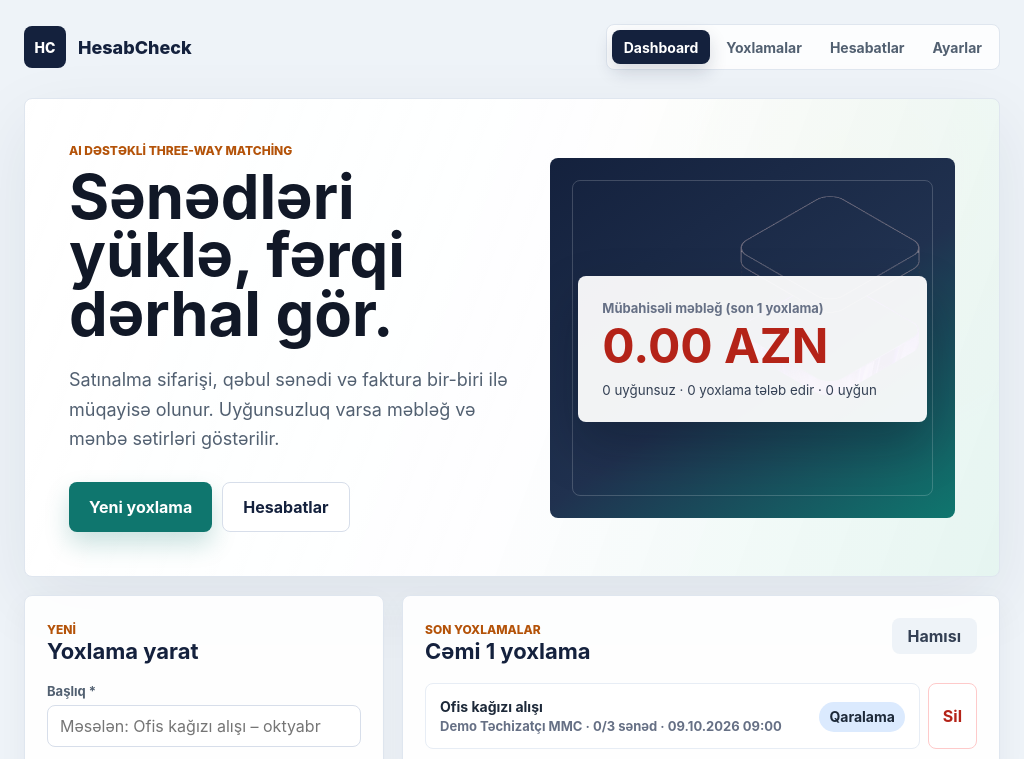
Yoxlamalar › silmə xətasını göstərir
Click the button "Yoxlamalar": (764, 47) [714,30,814,64]
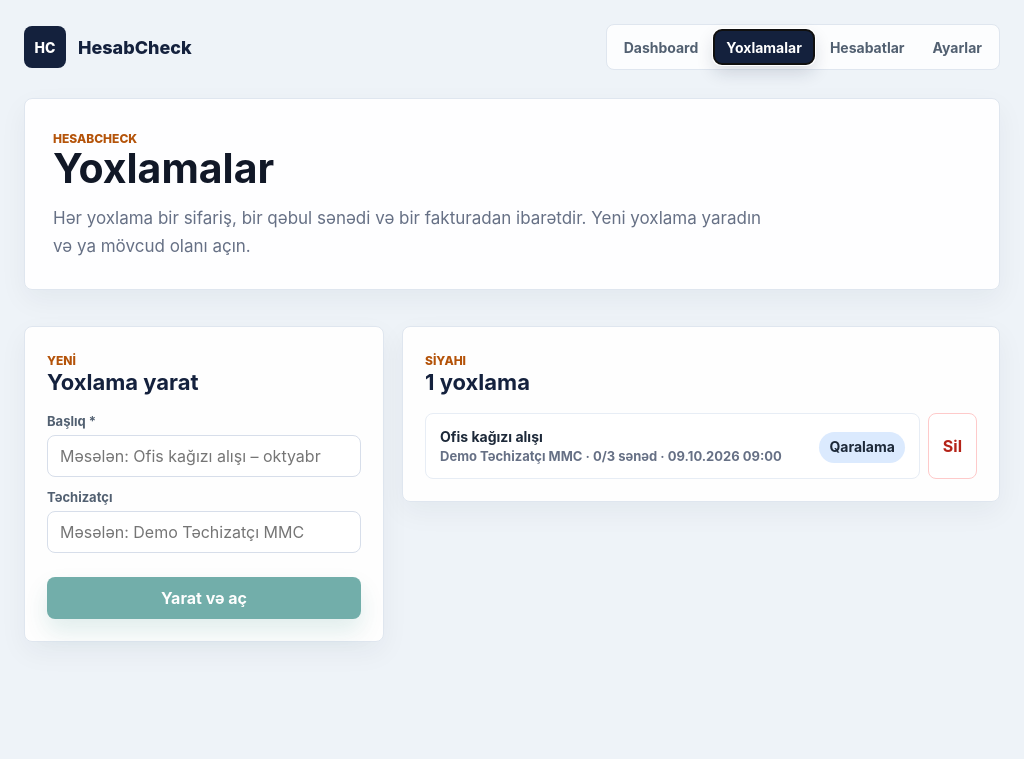
Click the button with aria-label "Ofis kağızı alışı yoxlamasını sil": (952, 446) [928,413,977,479]
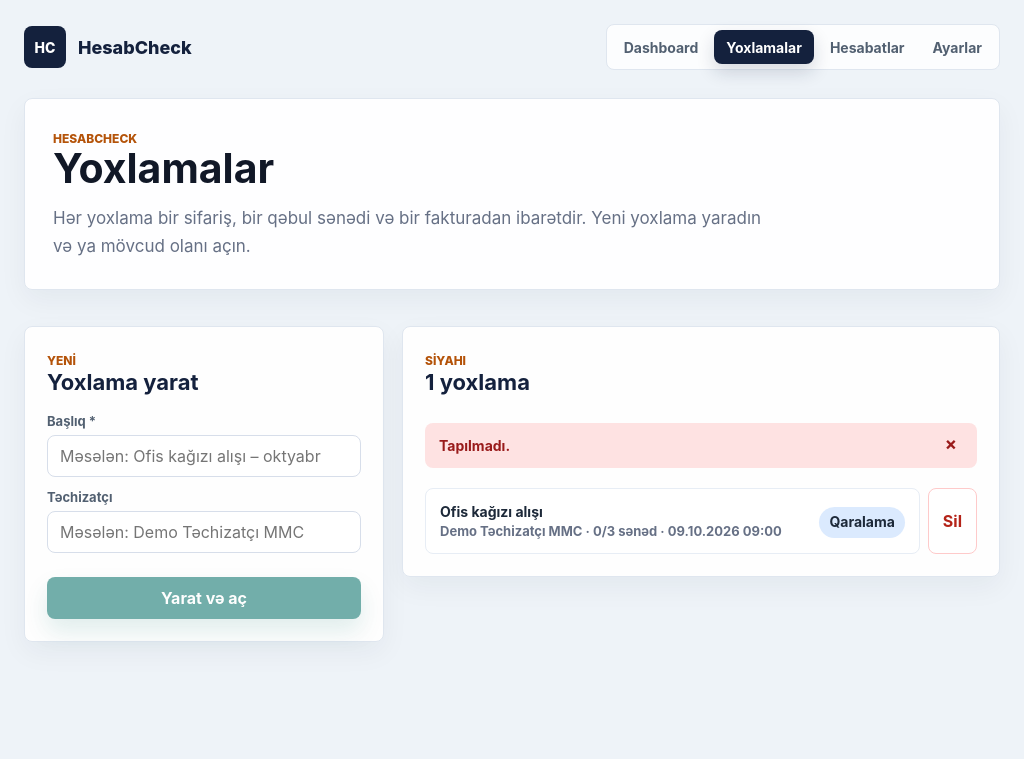
Result: the message shows "Tapılmadı." at [439,437,510,454]
